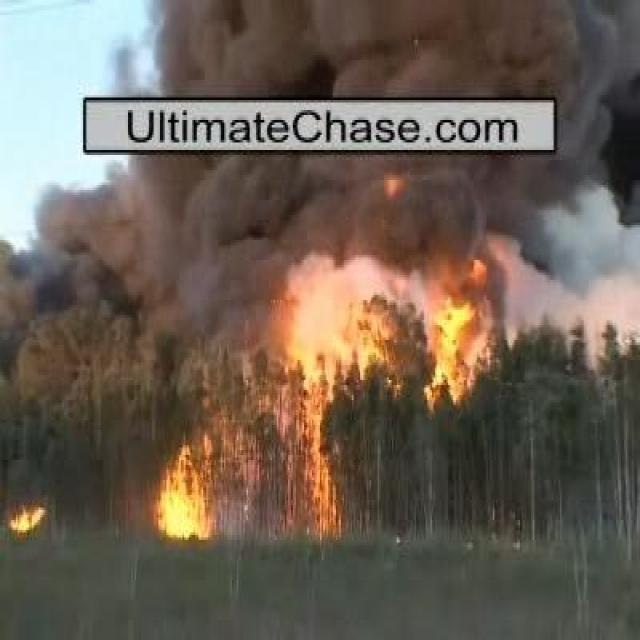fire: (160, 469, 213, 537)
smoke: (69, 157, 583, 280), (152, 10, 538, 86)
